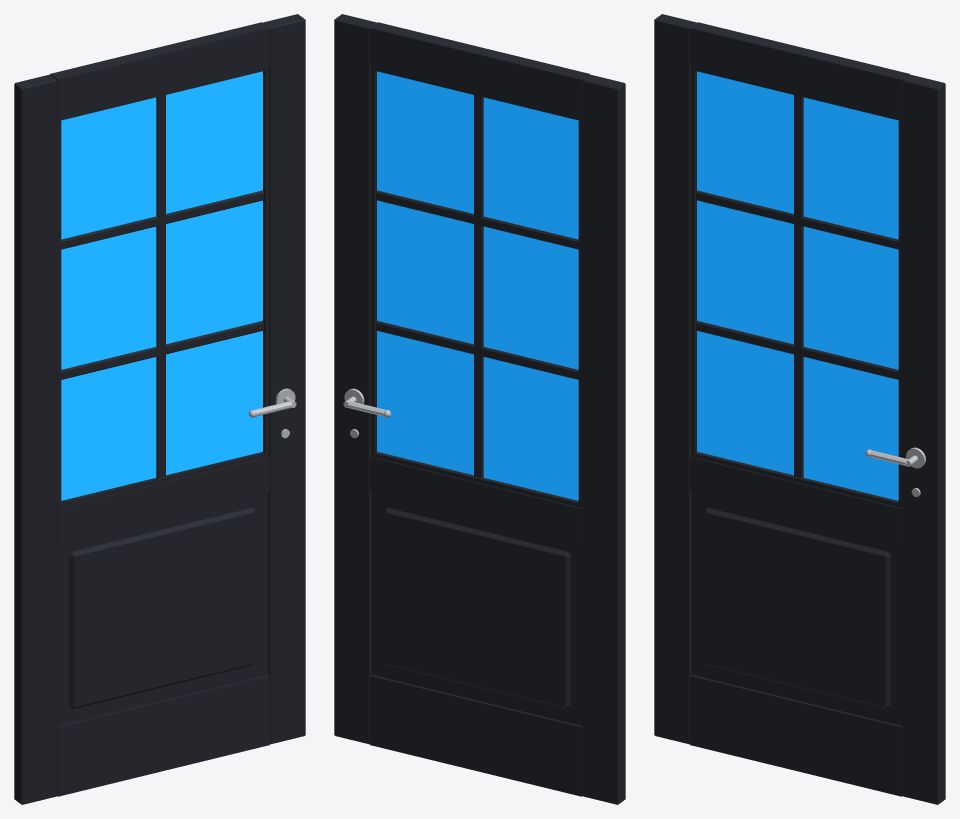
File: porta_vidro_6_preta.glb
3 views of the same model, side by side, from view 1: azimuth 30°, elevation 25°; view 2: azimuth 150°, elevation 25°; view 3: azimuth 330°, elevation 25° (orthographic).
Visible parts, largest first — view 1: porta_vidro_6_preta; view 2: porta_vidro_6_preta; view 3: porta_vidro_6_preta.
Boxes of the visible parts, x1,y1,x2,y2 form: porta_vidro_6_preta: (14,14,305,804); porta_vidro_6_preta: (334,14,625,804); porta_vidro_6_preta: (654,14,945,804).
Bounding box in the file's own units: 0.86 × 2.07 × 0.143.
